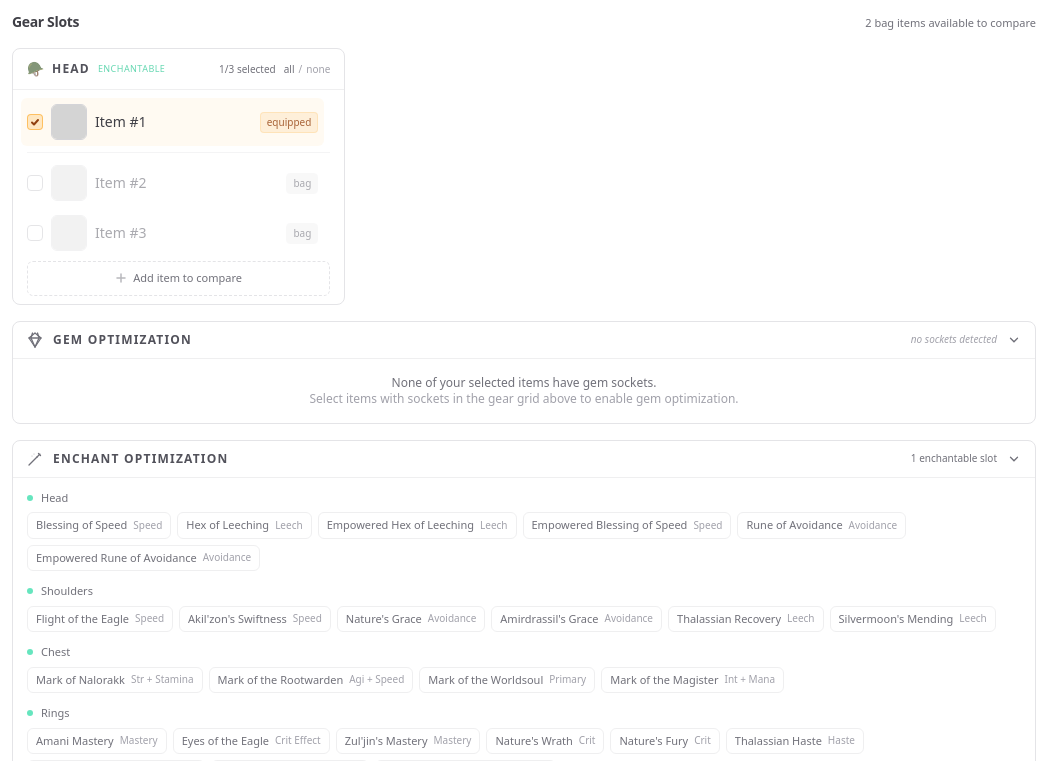
Test: GearPanel › updates selected count when toggling items
Expected: the text "1/3 selected" is shown, [219, 62, 276, 76]
// Select a bag item
Click the button "Item #2 bag" at (121, 183), box [21, 159, 324, 207]
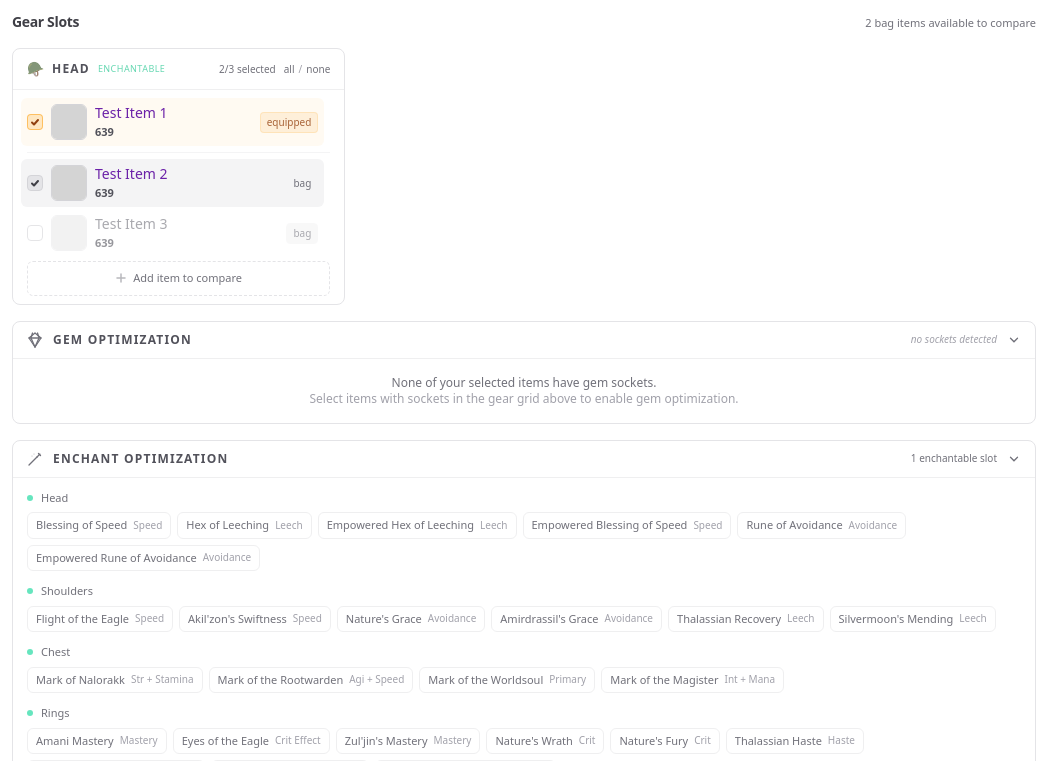
Expected: the text "2/3 selected" is shown, [219, 62, 276, 76]
